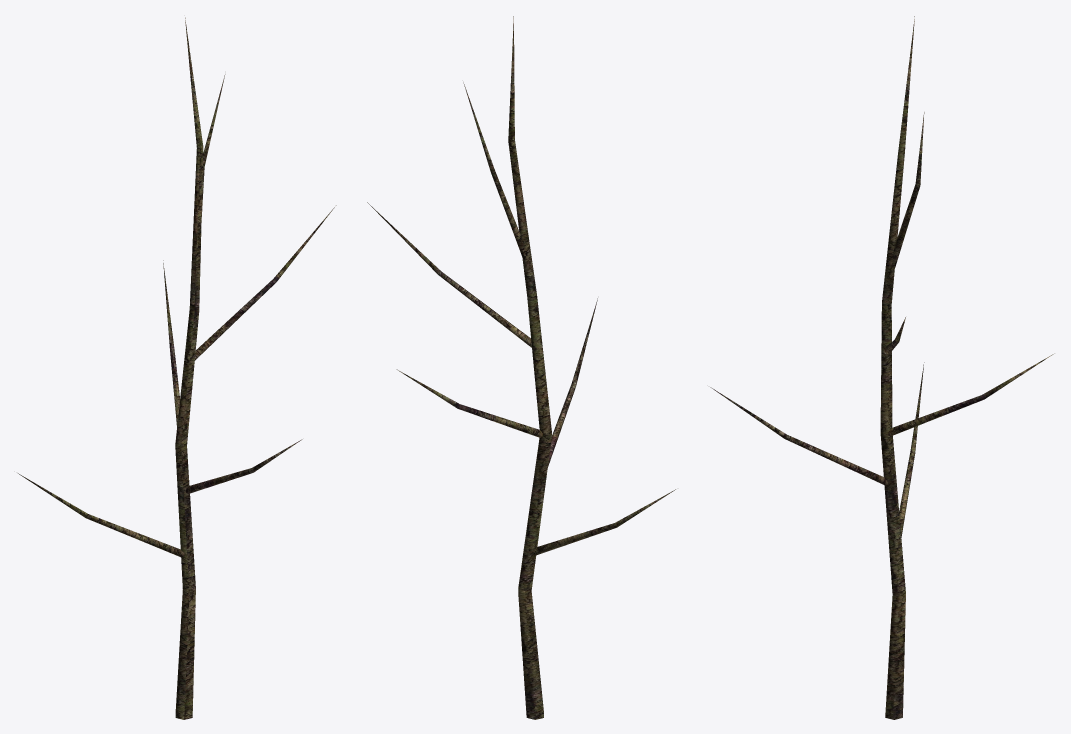
Rendered from KM_VOB_DEADTREE_01.glb.
3 views of the same model, side by side, from view 1: azimuth 30°, elevation 25°; view 2: azimuth 150°, elevation 25°; view 3: azimuth 270°, elevation 25° (orthographic). The views are drawn at different scales.
Visible parts, largest first — view 1: Mesh; view 2: Mesh; view 3: Mesh.
Boxes of the visible parts, left/top/right/bottom form: Mesh: left=18, top=17, right=336, bottom=719; Mesh: left=367, top=16, right=675, bottom=719; Mesh: left=710, top=16, right=1054, bottom=719.
Size of the model in its own units: 0.823 by 1.73 by 0.7744.
Materials: 1 (1 with a texture image).
